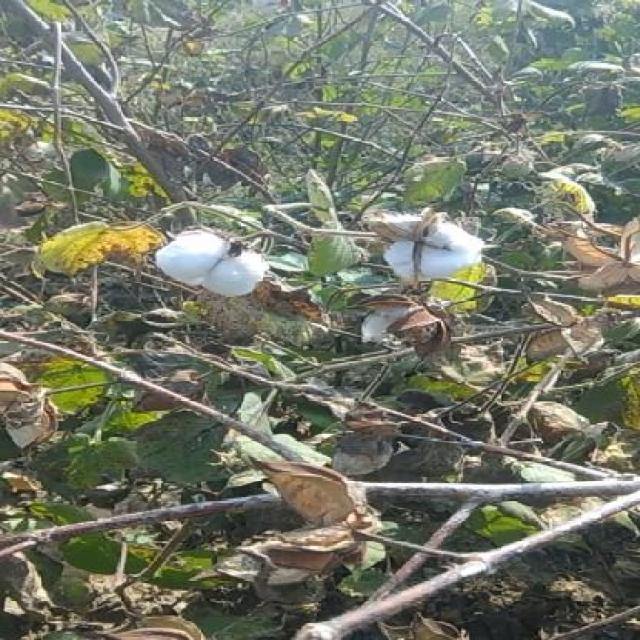cotton_ready: (116, 226, 281, 302), (363, 205, 491, 284)
